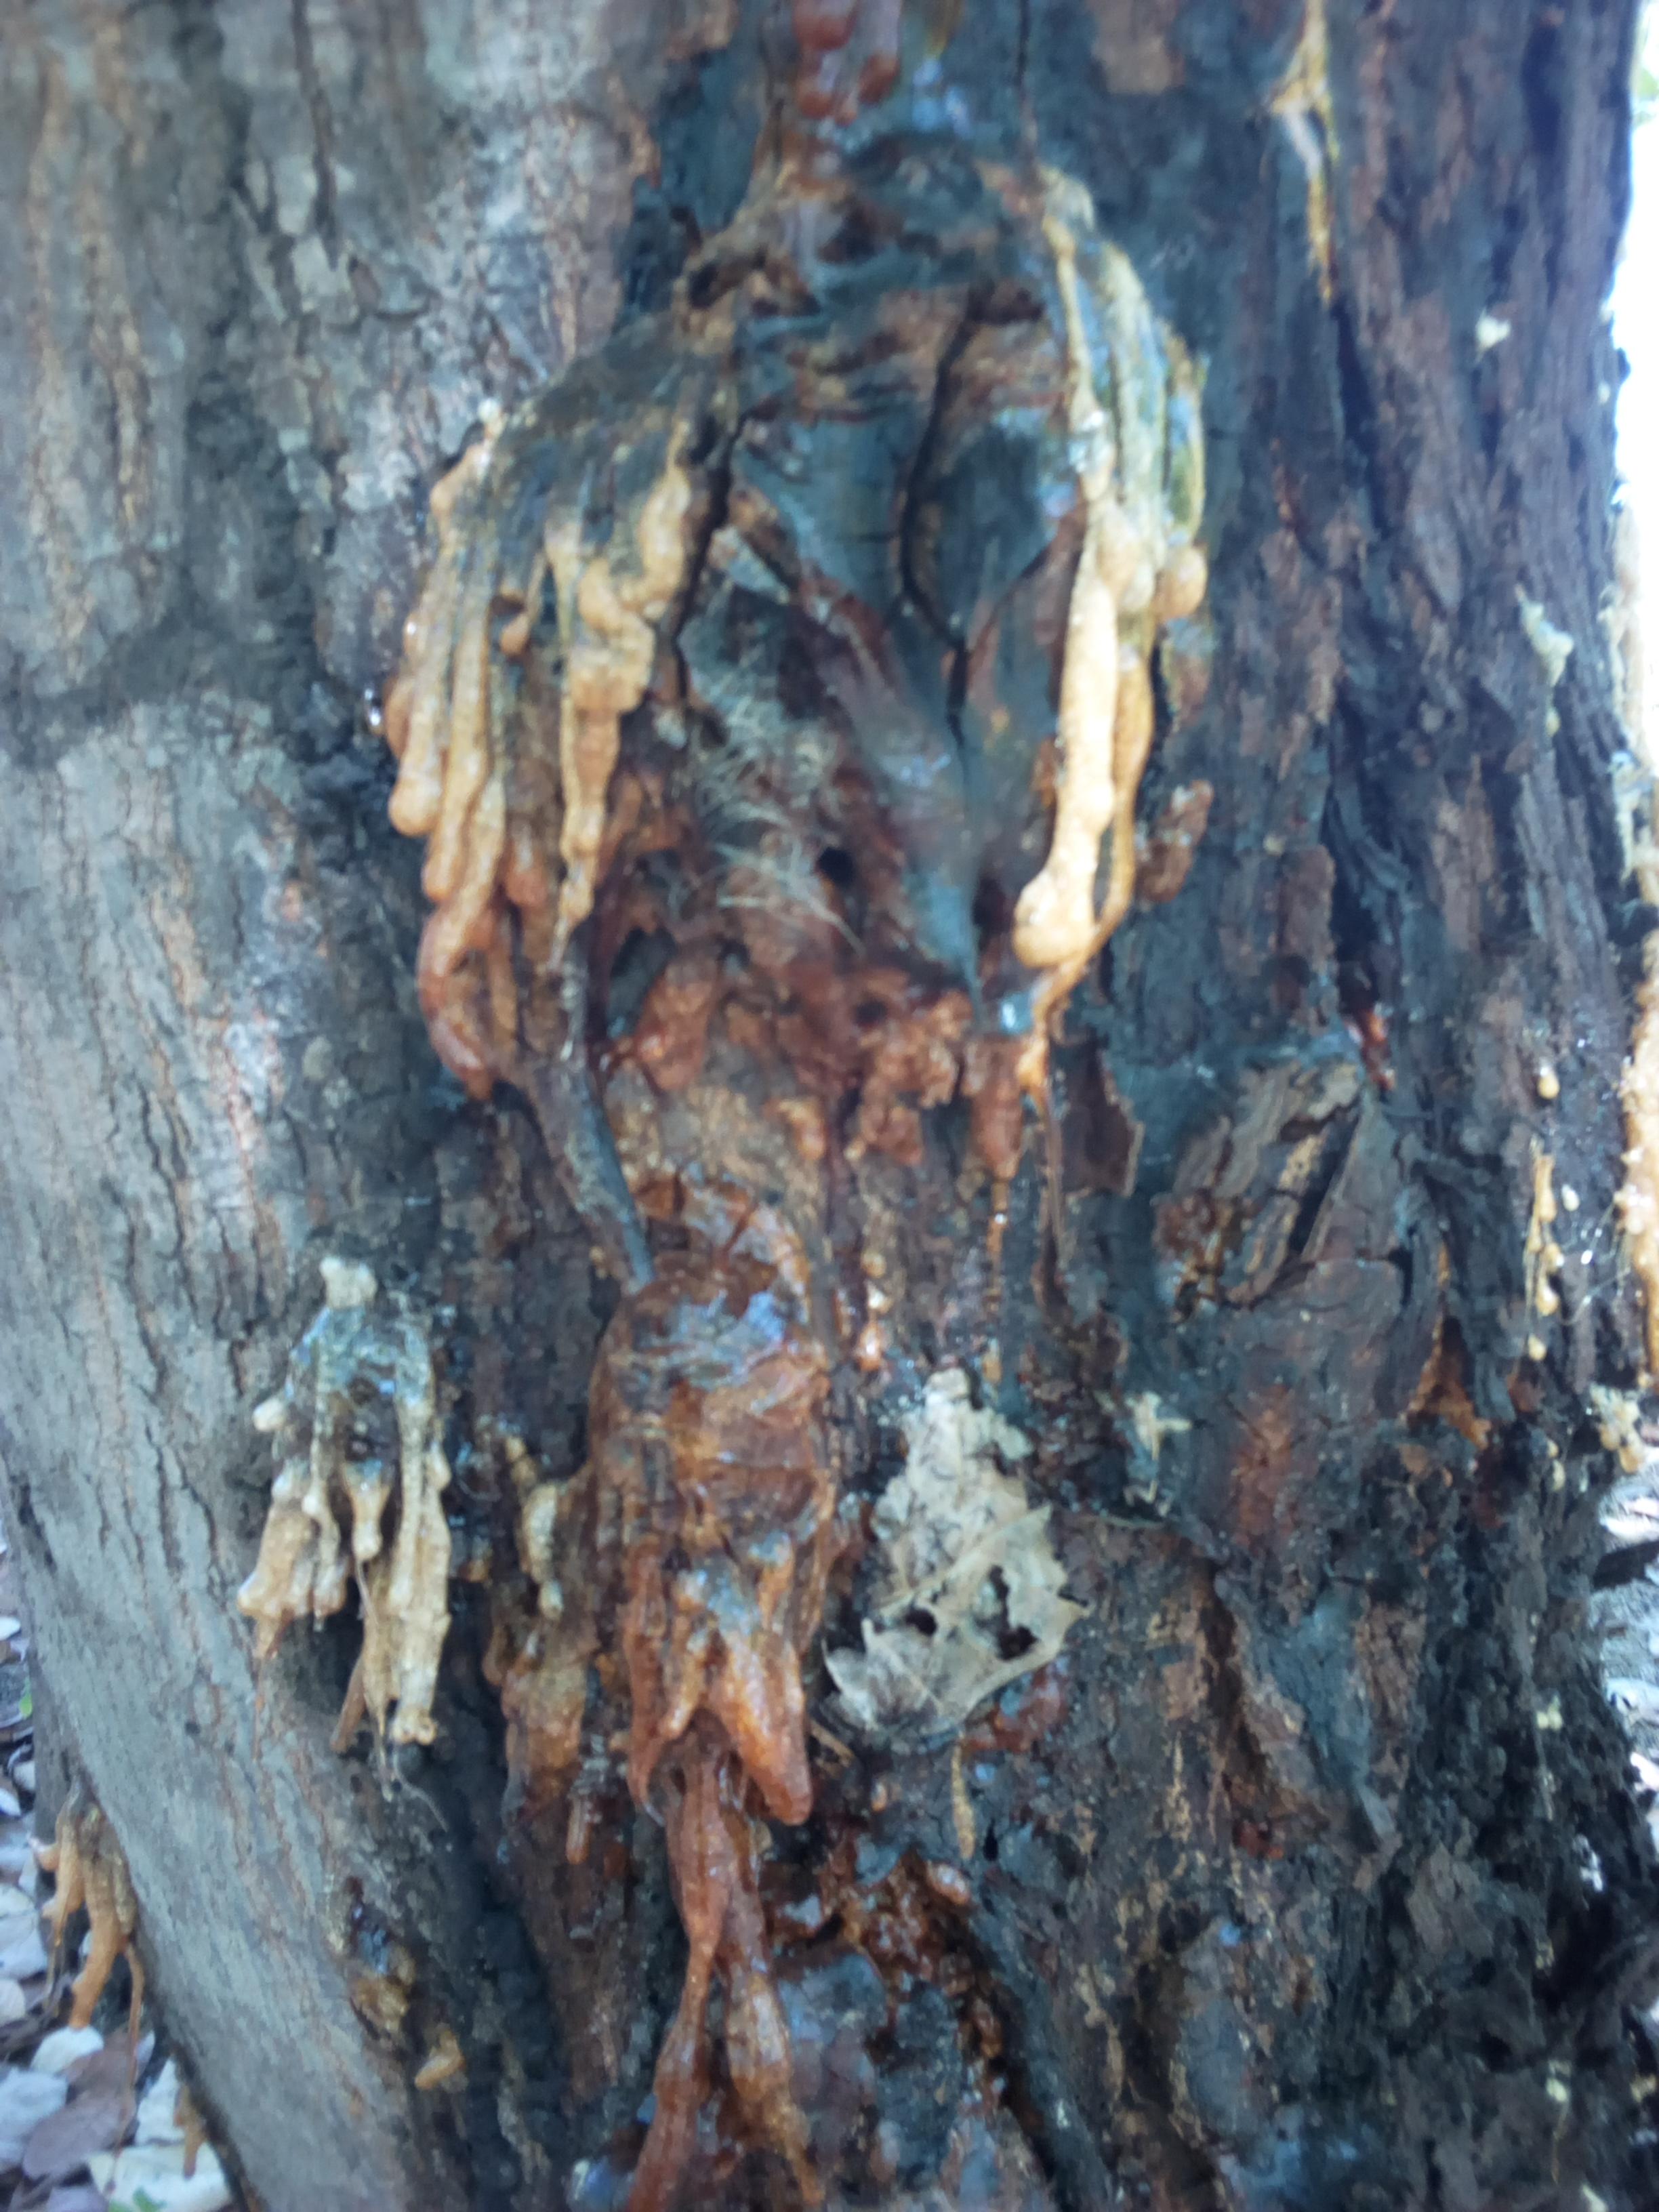Gommose: (369, 150, 1202, 2177), (1310, 636, 1659, 2212)
